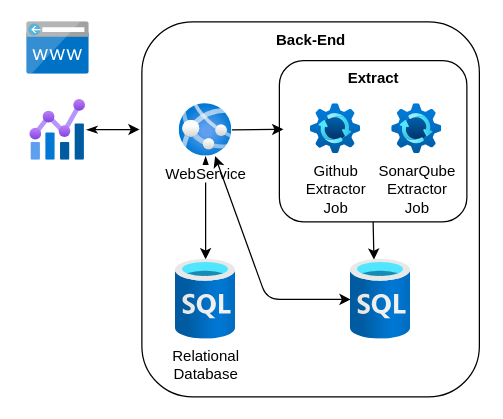
Some shapes in this 503 by 419 pixel diagram are drawn without their labels. Each missing label, with the centre of its shape:
Dashboard: (57,129)
Graph Database (neo4j): (380,299)
